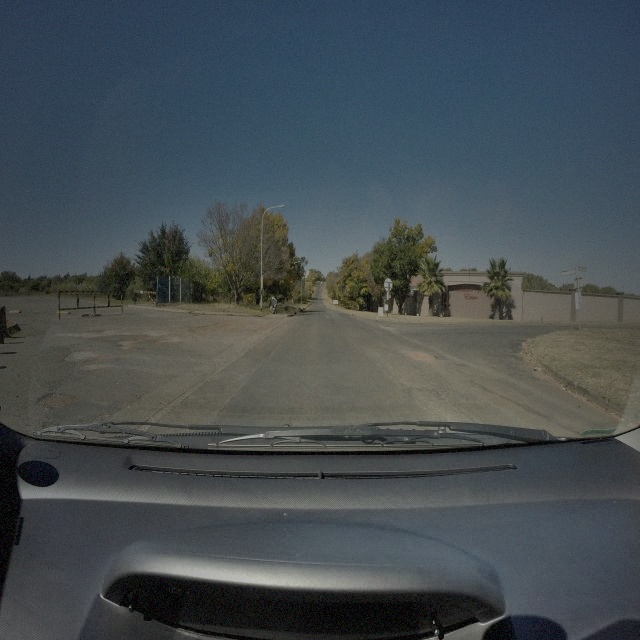pothole: (36, 390, 80, 413), (196, 319, 235, 335), (405, 346, 438, 364), (61, 350, 97, 360), (150, 338, 168, 346)
